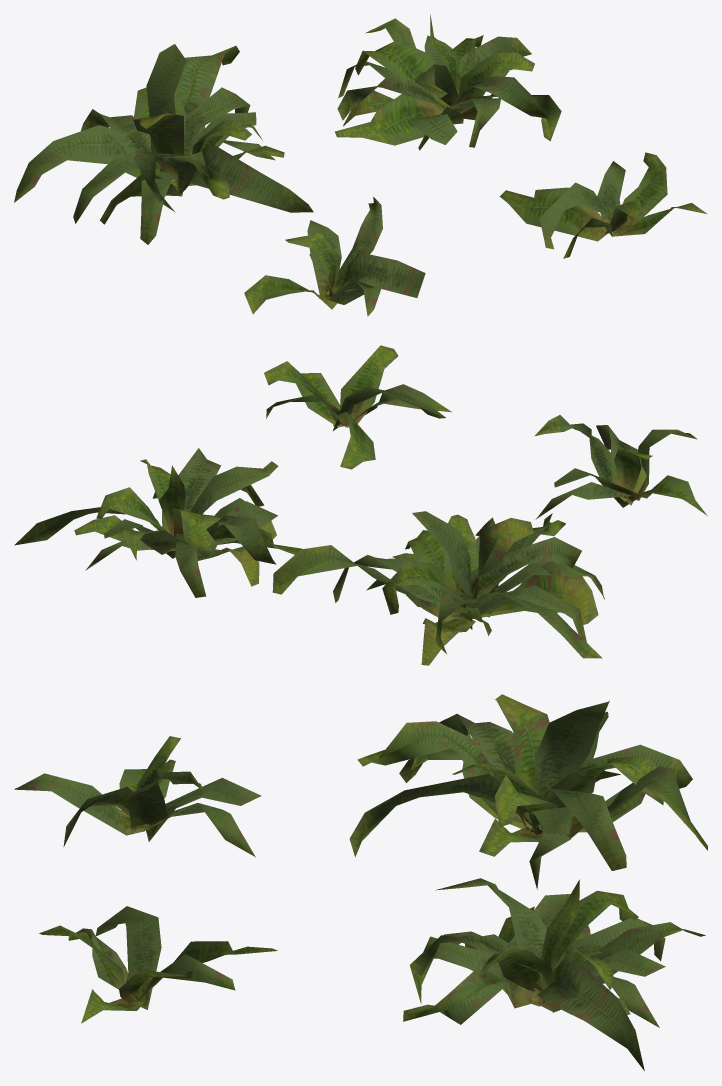
File: fern_02.glb
3 renders of one model, top to bottom at view 1: azimuth 30°, elevation 25°; view 2: azimuth 150°, elevation 25°; view 3: azimuth 270°, elevation 25°, orthographic. The views are drawn at different scales.
Parts seen in each view (by area): view 1: fern_02_b; view 2: fern_02_b; view 3: fern_02_b.
Part boxes in pixels (x1=…): fern_02_b: x1=14, y1=14, x2=706, y2=316; fern_02_b: x1=14, y1=345, x2=707, y2=665; fern_02_b: x1=14, y1=694, x2=707, y2=1071.
Size of the model in its own units: 1.97 by 0.4246 by 1.72.
Materials: 1 (1 with a texture image).
